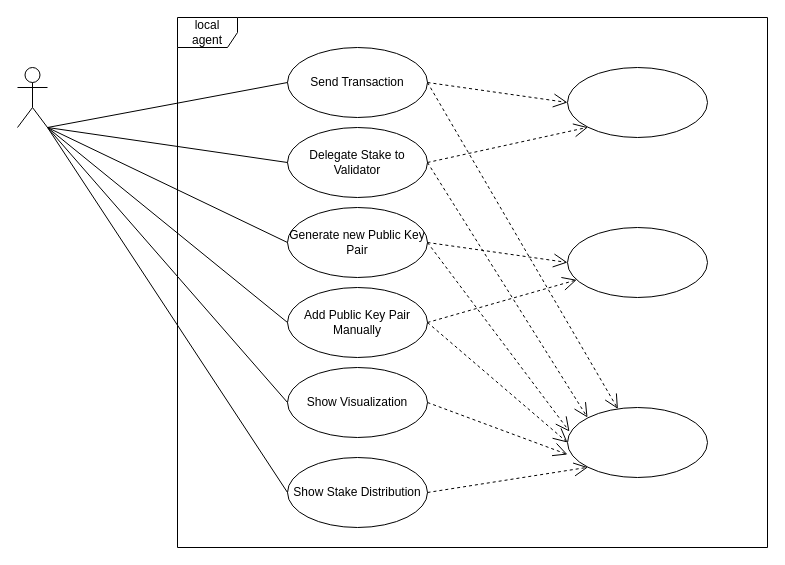
The diagram is 785 pixels wide and 565 high, and some of its shapes have lost their labels. Each missing label, with the centre of its shape:
"Add Key to Database" belongs at point 637,262.
"Load Agent & Update UI" belongs at point 637,442.
"Propose new Transaction to Network" belongs at point 637,102.
"User" belongs at point 32,97.
